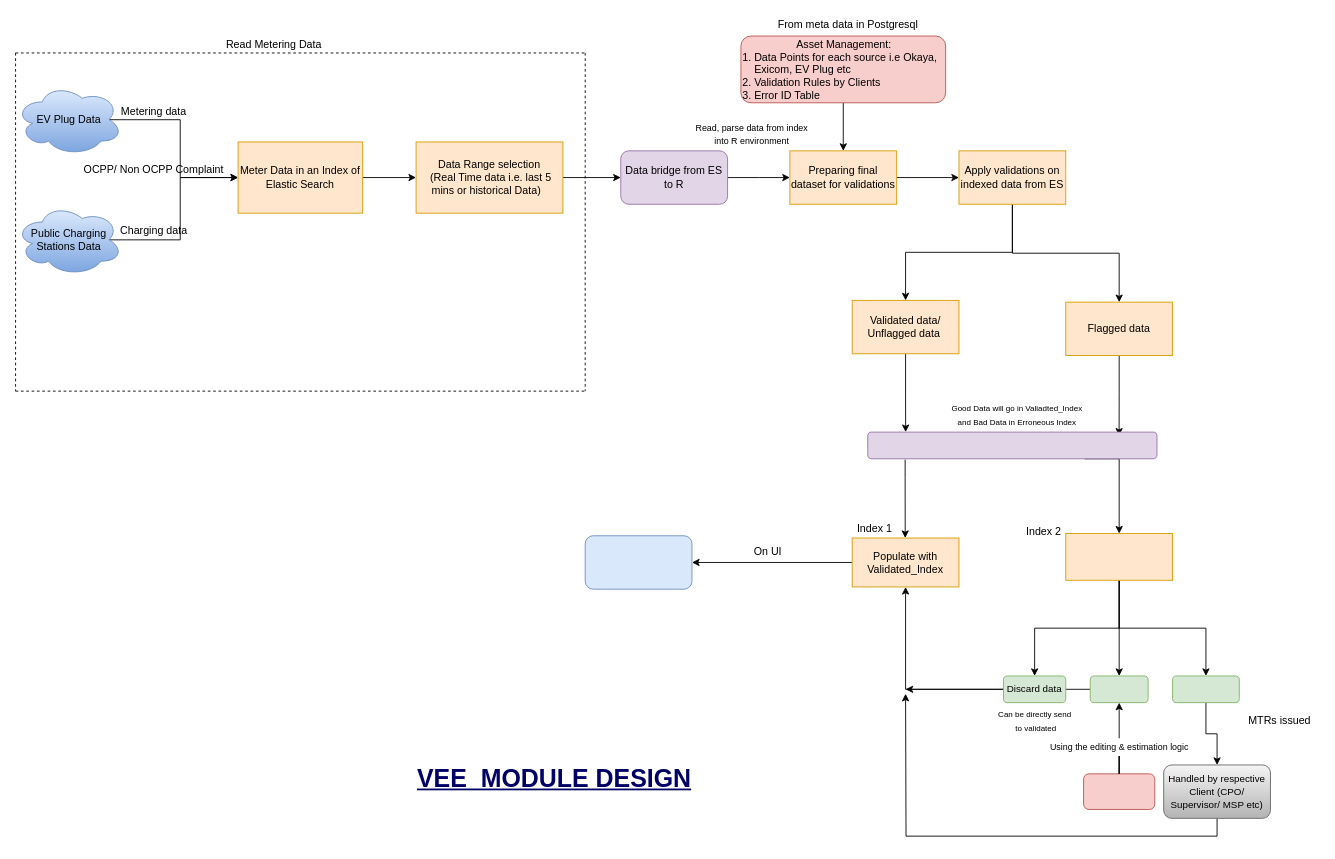
Image size: 1335x859. Some labels were removed from this diagram. The shapes that lost their labels are listed below. From the top down, each one's centre as x and y in pixels, then its label:
At [1012,445]: "Bridge from R to ES".
At [638,562]: "Analytics Module".
At [1119,556]: "Populate with Erroneous_Index and show on UI".
At [1118,689]: "Edit data".
At [1205,689]: "Unresolved Errors".
At [1119,791]: "VEE module".
